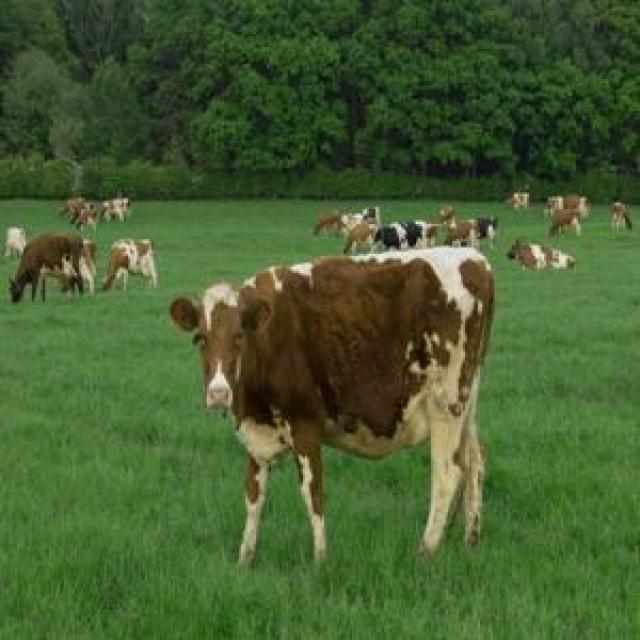cow: (171, 246, 495, 564)
